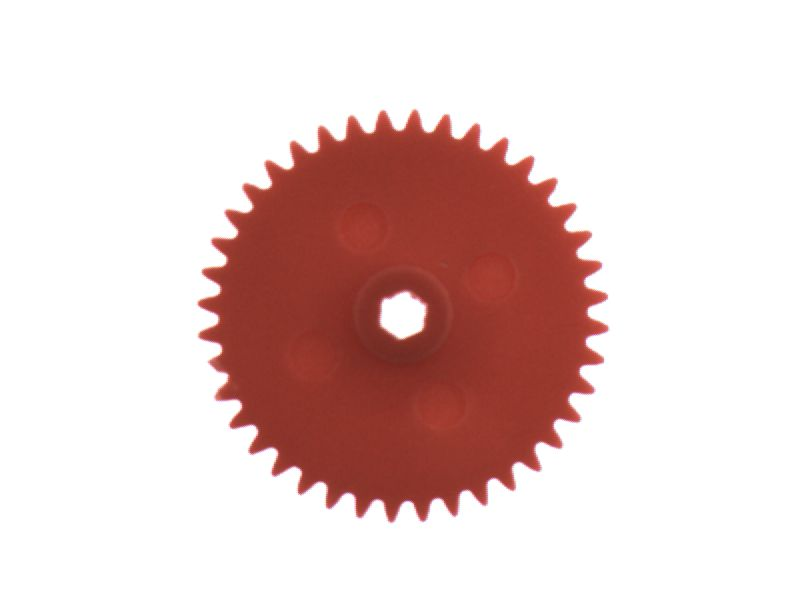defect_break: (188, 347, 238, 383)
